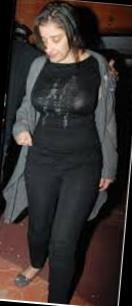Drunk: (40, 29, 69, 61)
